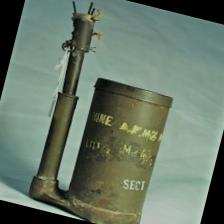M2A1: (12, 0, 197, 224)
